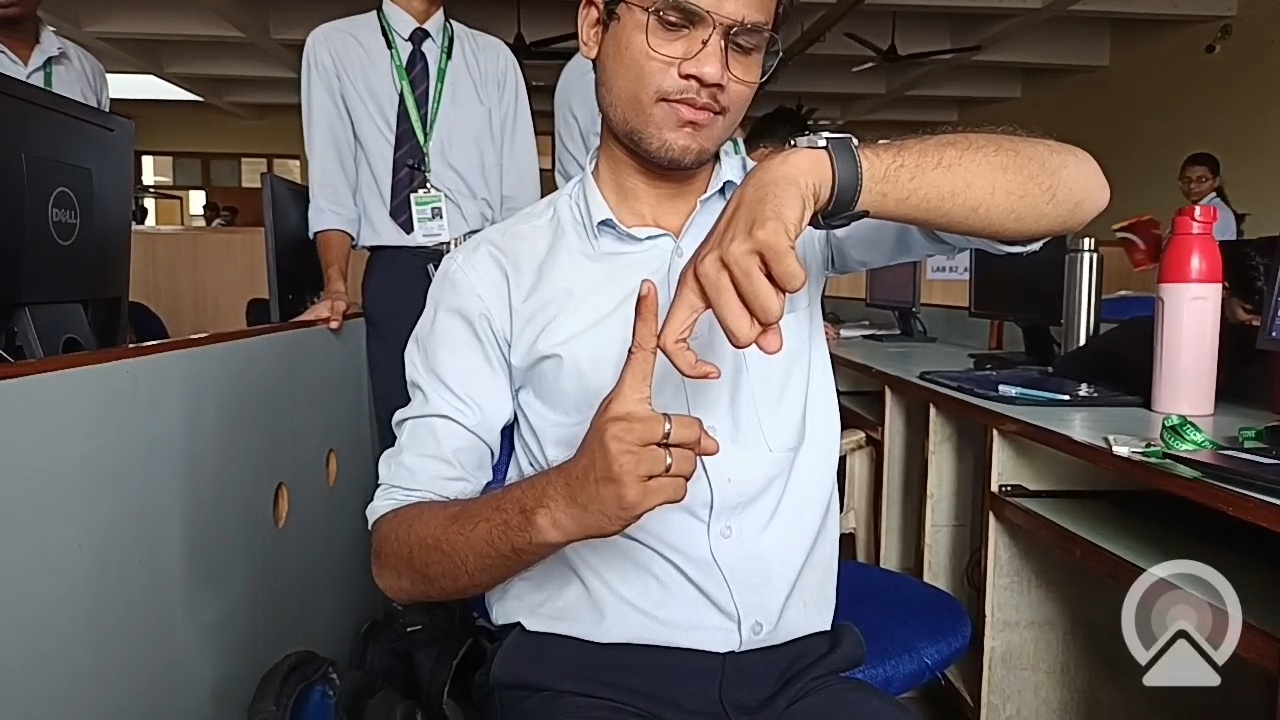K: (566, 151, 868, 580)
